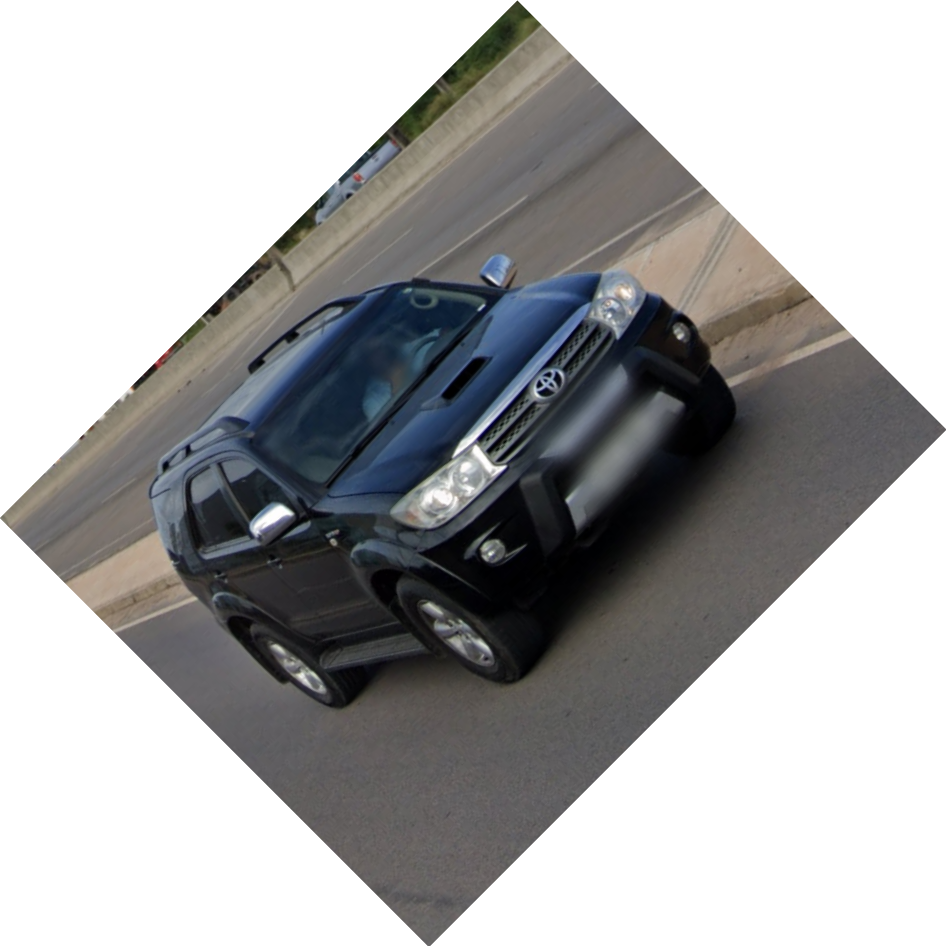car: (140, 250, 739, 713)
